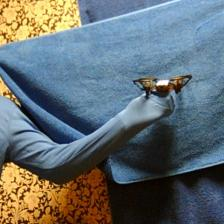drone: (134, 74, 195, 100)
